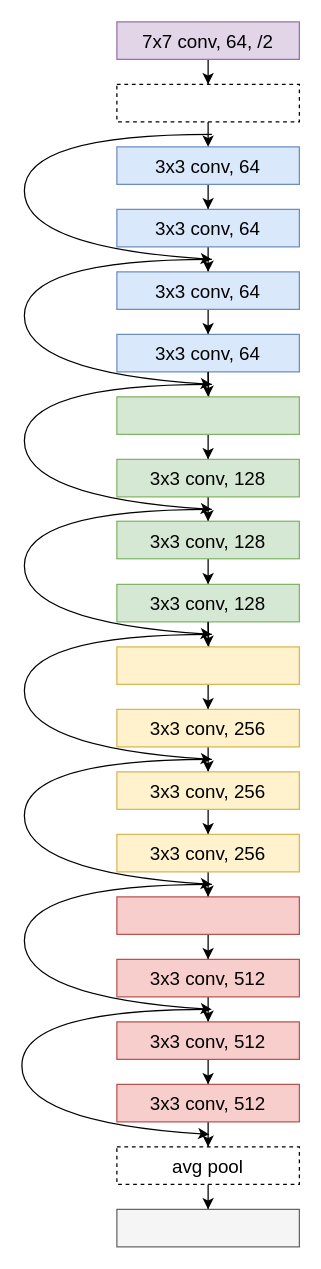
Image size: 321x1269. Some labels were removed from this diagram. Here are the shapes that lost their labels. From the top down, the centre of each, then its label:
At (207,102): "maxpool, /2".
At (207,415): "3x3 conv, 128, /2".
At (207,665): "3x3 conv, 256, /2".
At (207,915): "3x3 conv, 512, /2".
At (207,1227): "fc".
